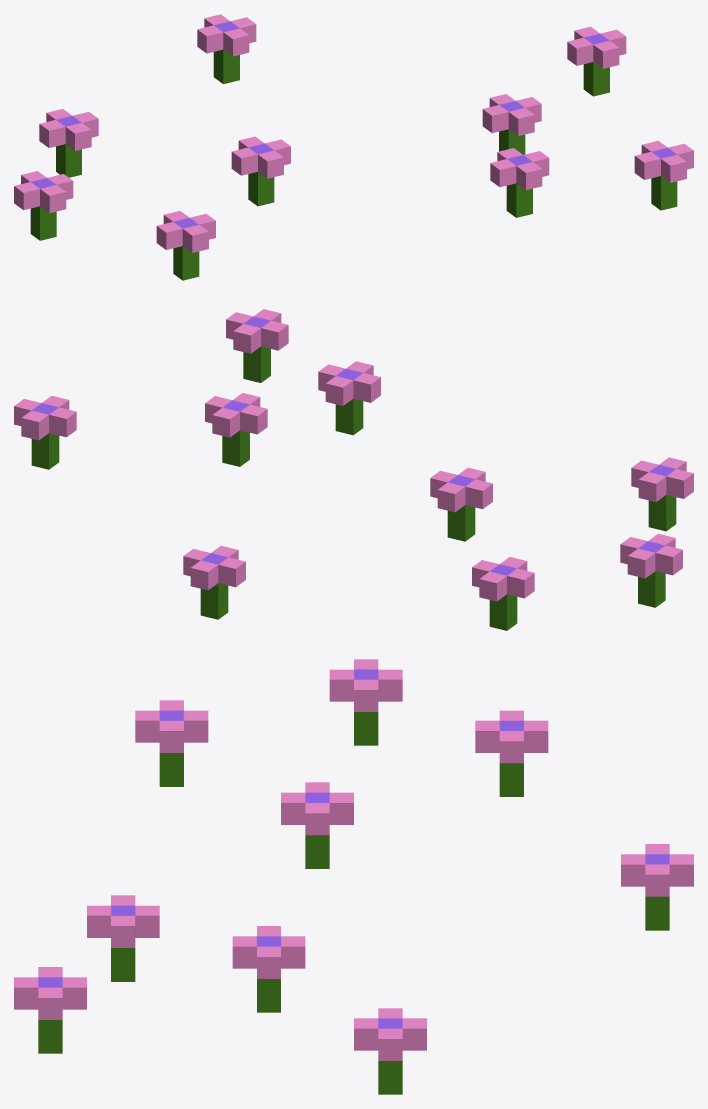
The model's file is flowers_3_overtile.glb.
3 renders of one model, top to bottom at view 1: azimuth 30°, elevation 25°; view 2: azimuth 150°, elevation 25°; view 3: azimuth 270°, elevation 25°, orthographic. The views are drawn at different scales.
Parts seen in each view (by area): view 1: flowers_3_overtile; view 2: flowers_3_overtile; view 3: flowers_3_overtile.
Boxes of the visible parts, x1=… form: flowers_3_overtile: x1=14, y1=14, x2=693, y2=280; flowers_3_overtile: x1=14, y1=309, x2=693, y2=630; flowers_3_overtile: x1=14, y1=659, x2=693, y2=1094.
Size of the model in its own units: 3.7 by 0.3 by 2.8.
1 material, 1 textured.
